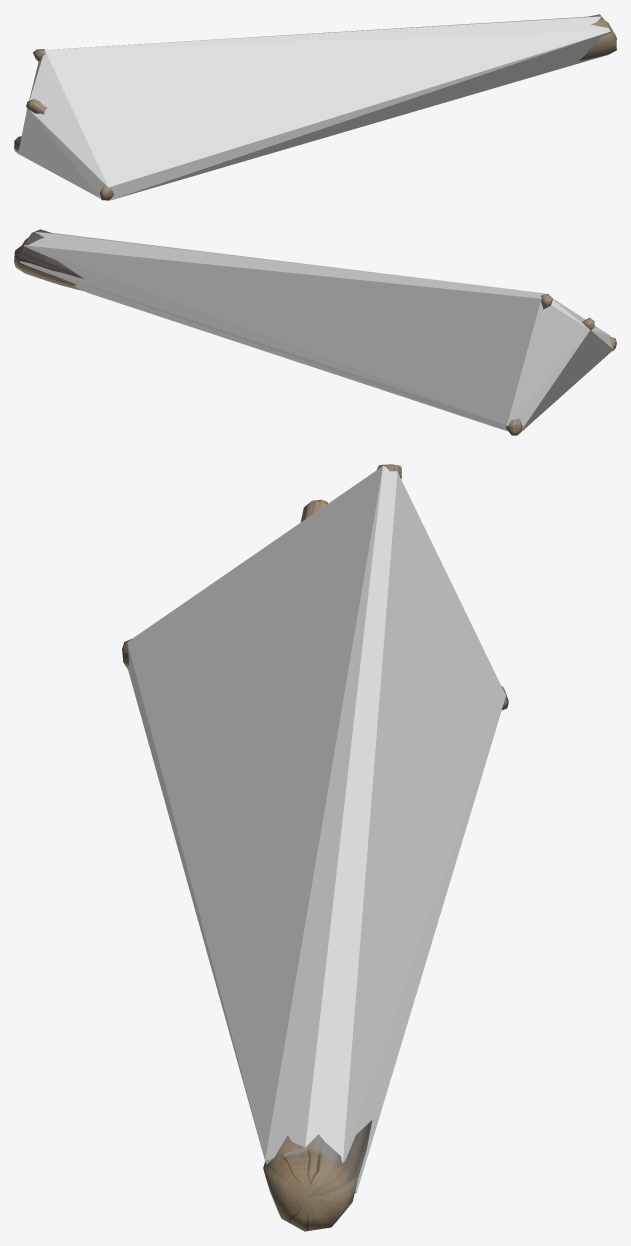
The model's file is IO_Driftwood_A.glb.
3 renders of one model, top to bottom at view 1: azimuth 30°, elevation 25°; view 2: azimuth 150°, elevation 25°; view 3: azimuth 270°, elevation 25°, orthographic. The views are drawn at different scales.
Visible parts, largest first — view 1: IO_Driftwood_A_COL, IO_Driftwood_A_LOD0; view 2: IO_Driftwood_A_COL, IO_Driftwood_A_LOD0; view 3: IO_Driftwood_A_COL, IO_Driftwood_A_LOD0.
Part boxes in pixels (x1=…): IO_Driftwood_A_COL: x1=18, y1=16, x2=610, y2=200; IO_Driftwood_A_LOD0: x1=14, y1=14, x2=616, y2=200; IO_Driftwood_A_COL: x1=20, y1=231, x2=613, y2=433; IO_Driftwood_A_LOD0: x1=14, y1=229, x2=616, y2=435; IO_Driftwood_A_COL: x1=127, y1=466, x2=505, y2=1193; IO_Driftwood_A_LOD0: x1=122, y1=464, x2=508, y2=1231.
Size of what is drawn, in the model's own units: 2.15 by 0.4346 by 0.6241.
1 material, 1 textured.
